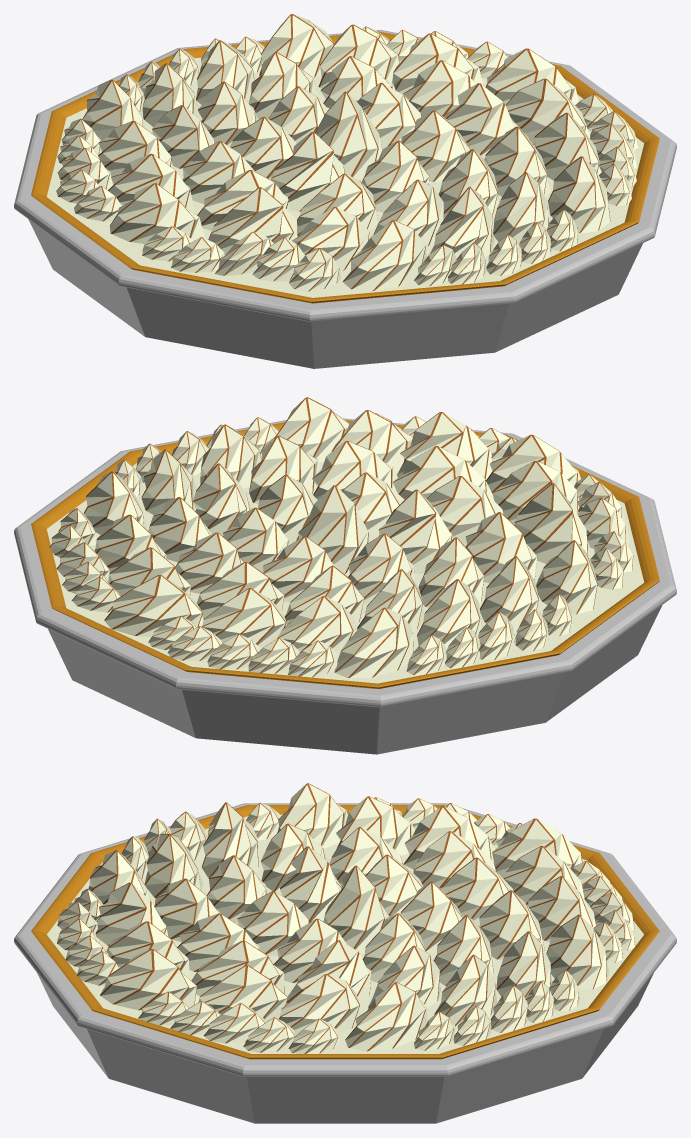
File: PieLemon1.fbx
3 views of the same model, one above another, from view 1: azimuth 30°, elevation 25°; view 2: azimuth 150°, elevation 25°; view 3: azimuth 270°, elevation 25° (orthographic). The views are drawn at different scales.
Visible parts, largest first — view 1: PieLemon1; view 2: PieLemon1; view 3: PieLemon1.
Boxes of the visible parts, x1,y1,x2,y2 form: PieLemon1: (14,14,676,368); PieLemon1: (14,397,676,754); PieLemon1: (14,783,676,1123).
Size of the model in its own units: 280 by 79.92 by 295.
